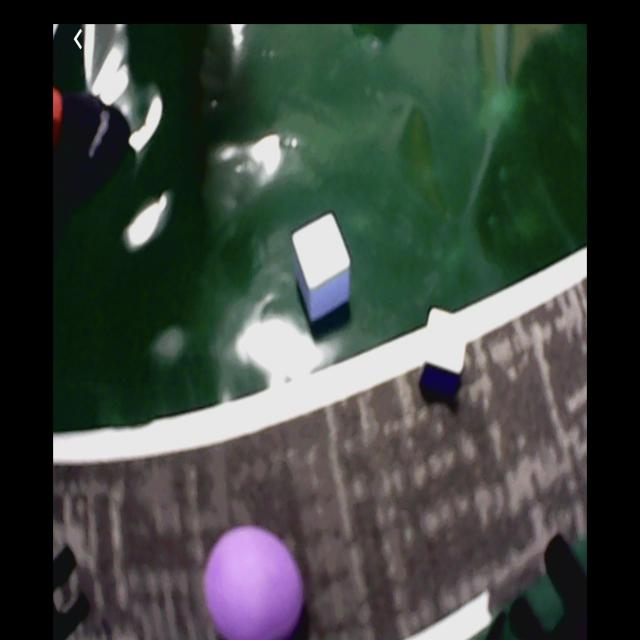ball: (207, 526, 305, 640)
